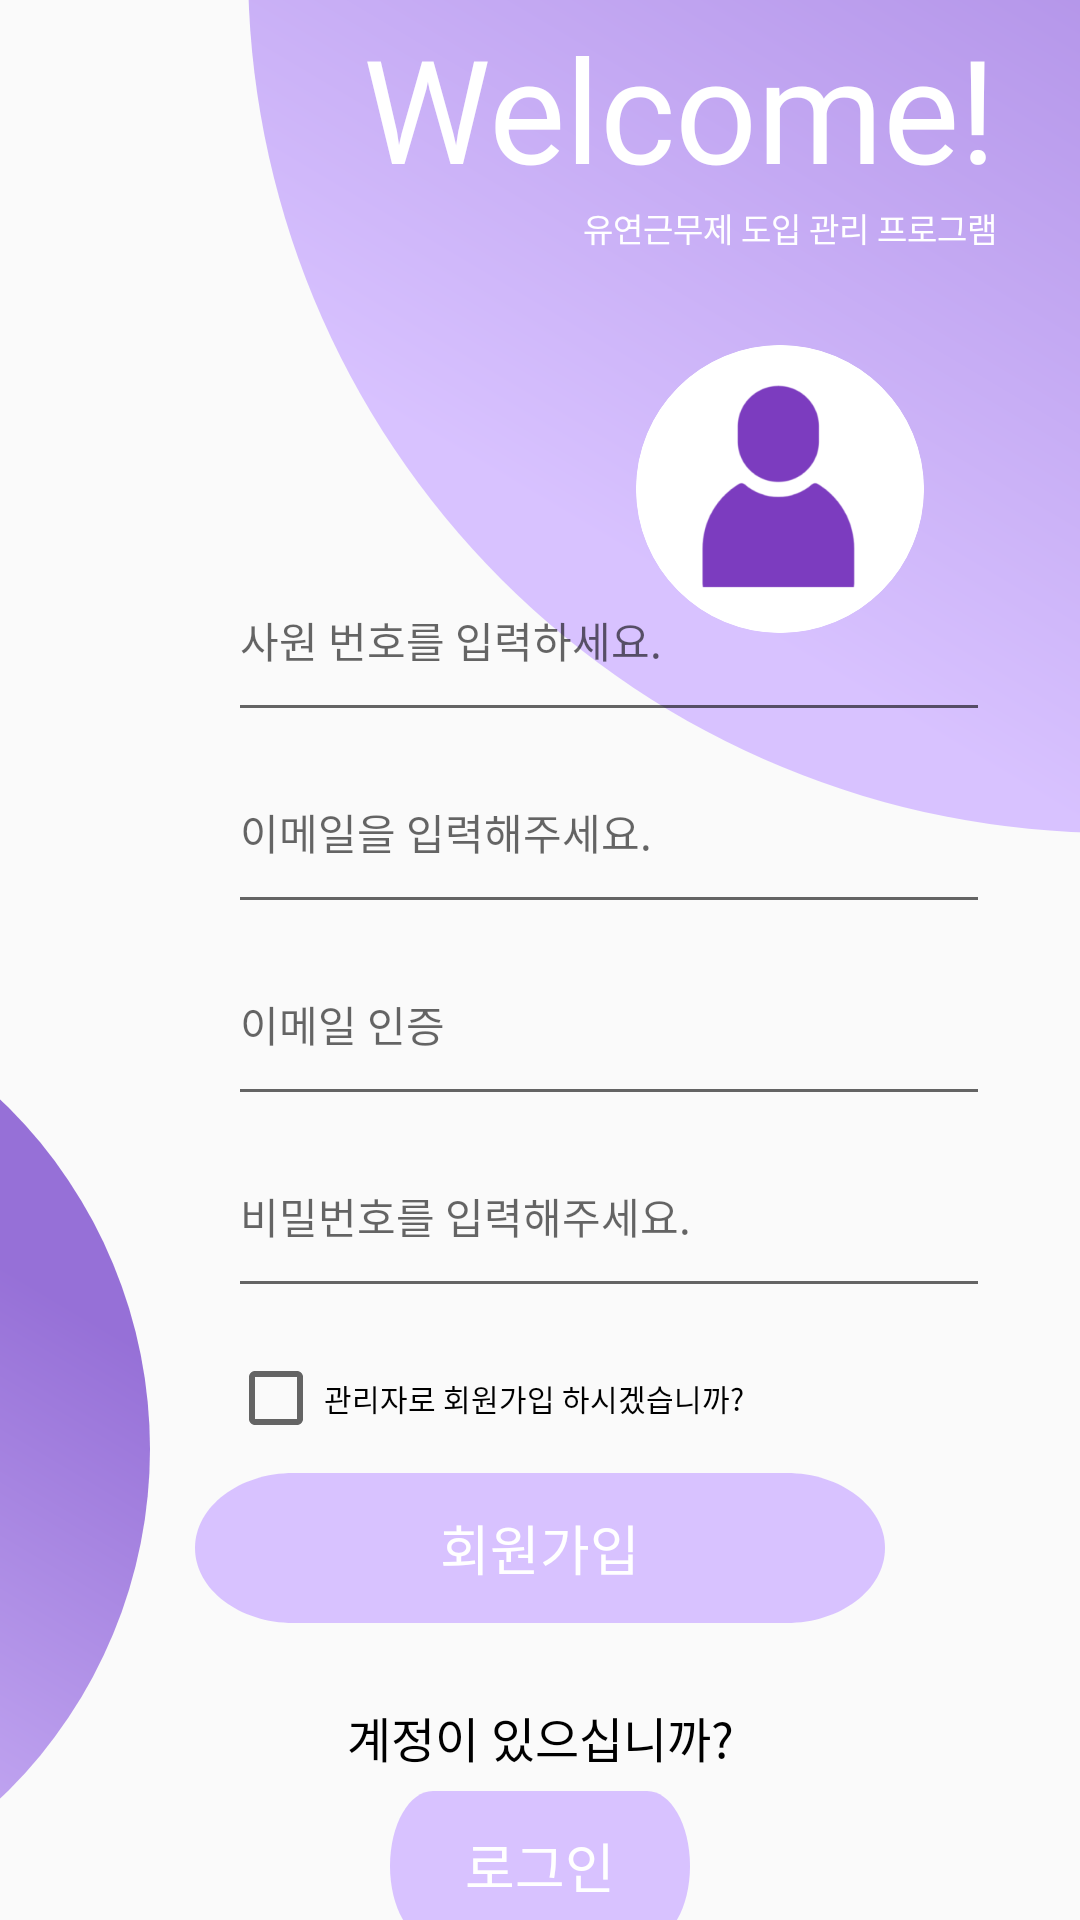

Screen size 1080*1920. Icon name, then its box in pixels as bbox=(x1, y1, x2, y2):
profile: bbox=(636, 345, 924, 633)
